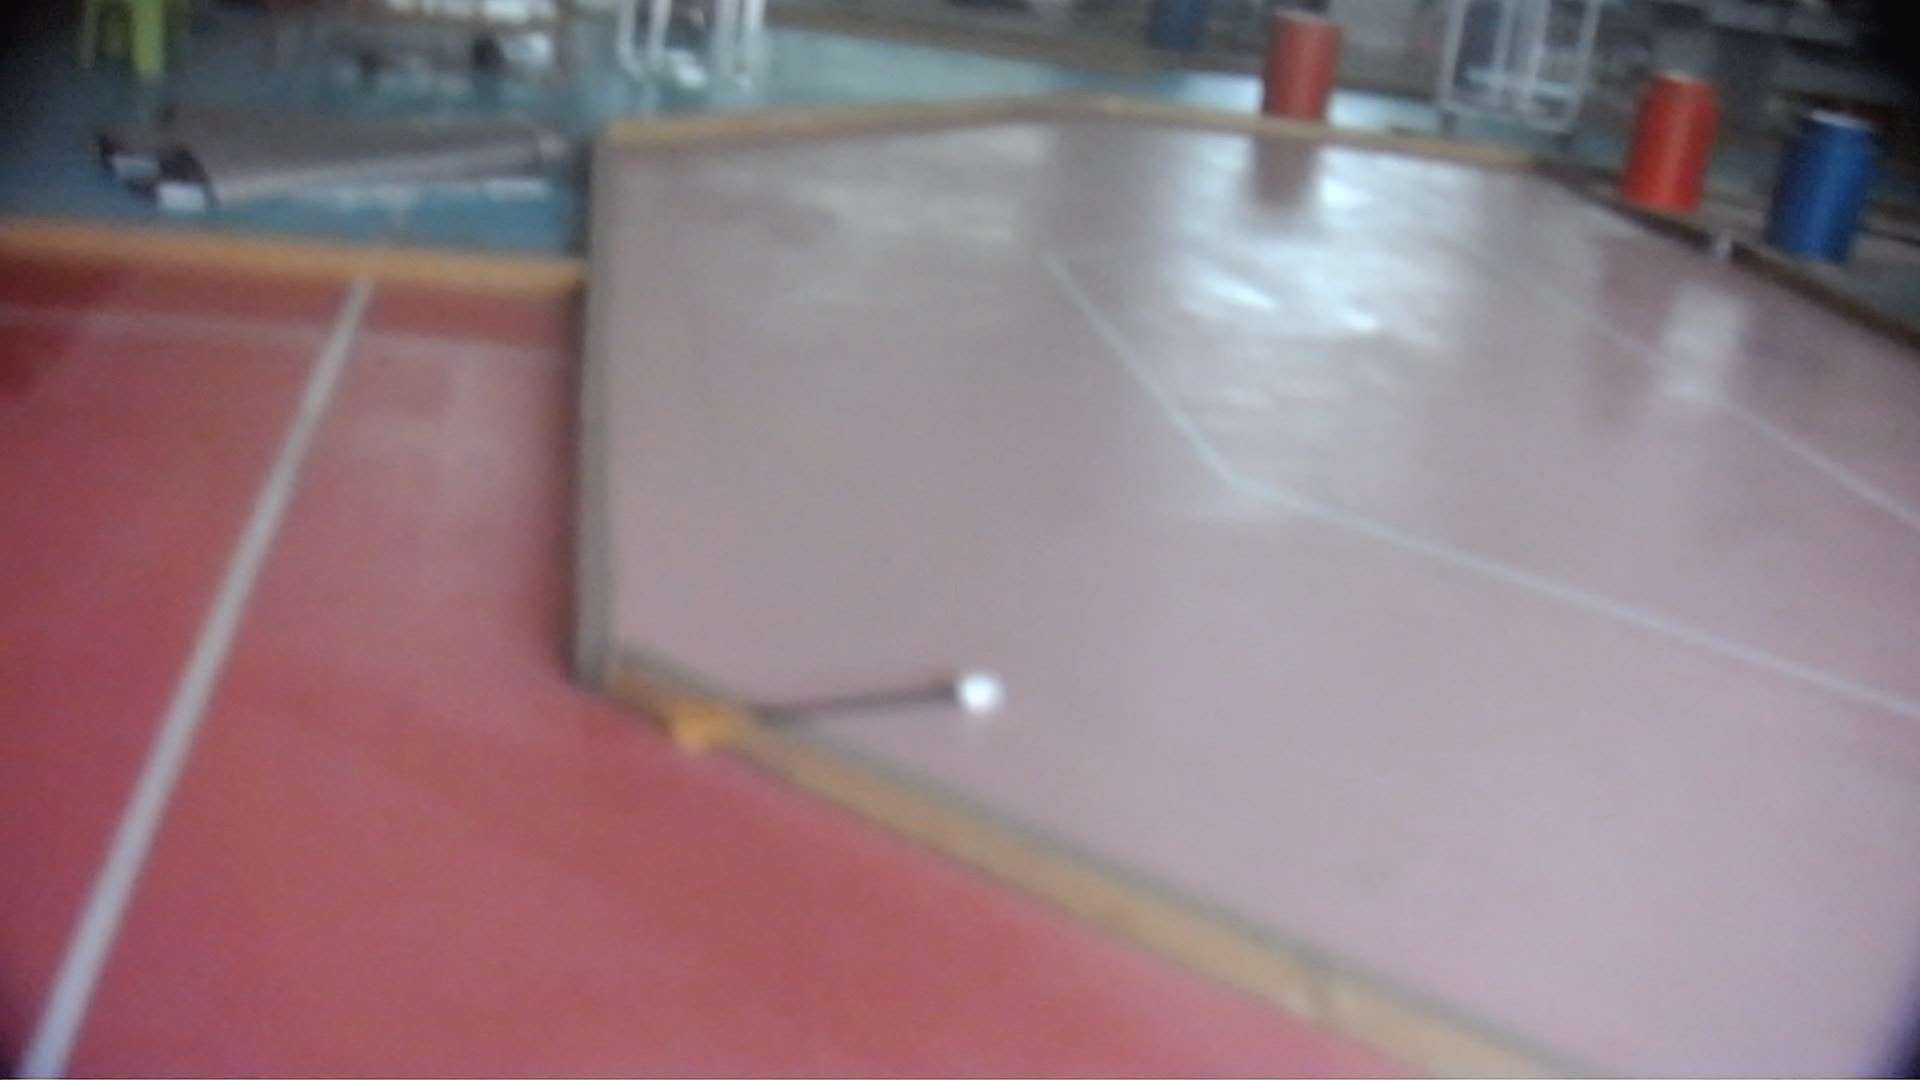arrow: (663, 669, 1005, 760)
arrowFront: (952, 671, 1007, 713)
